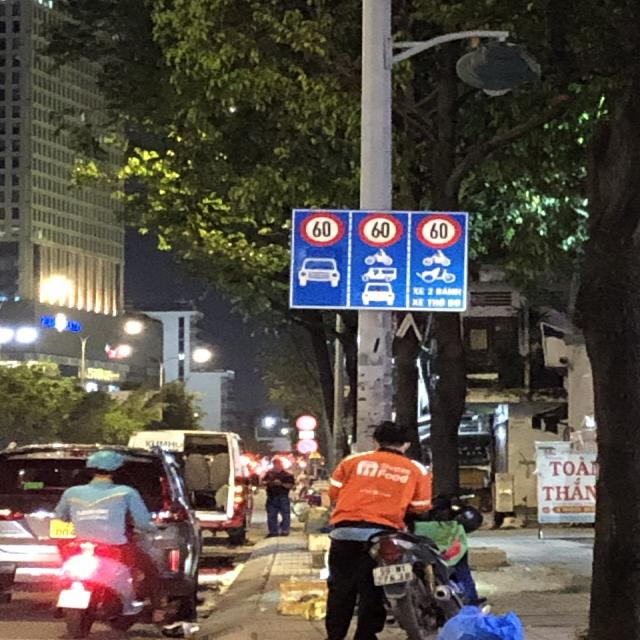Bien bao toc do toi da cho phep: (296, 208, 348, 250), (353, 210, 409, 248), (414, 212, 464, 249)
